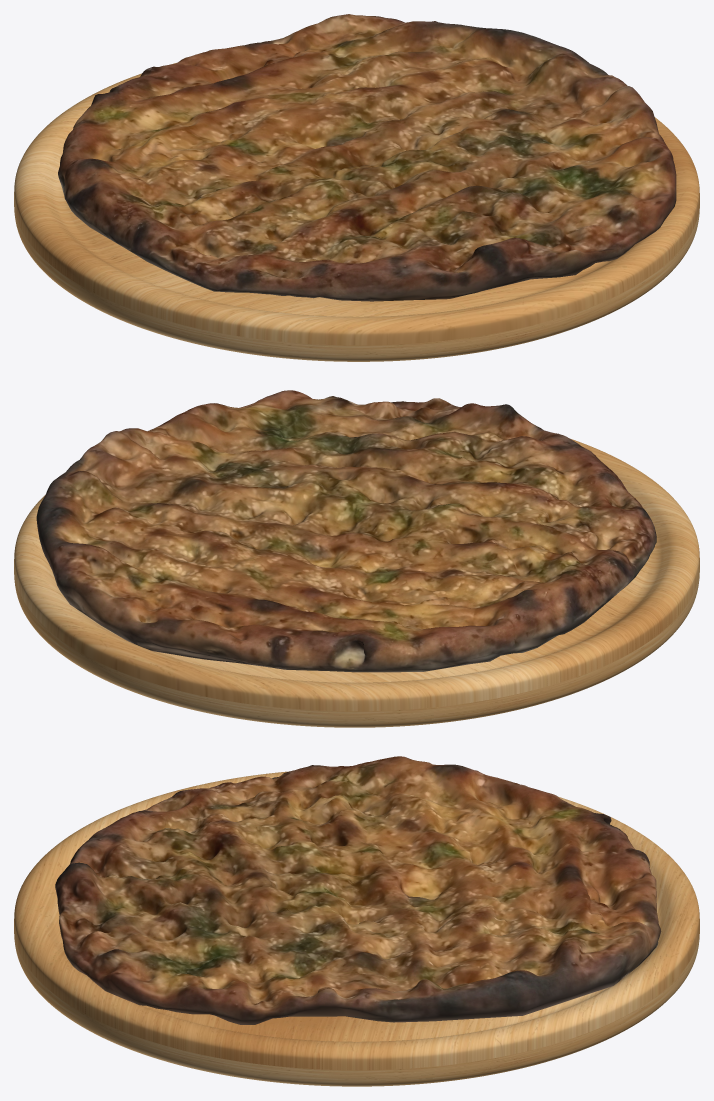
File: chicken_naan.glb
The picture shows the model from 3 angles, top to bottom: view 1: azimuth 30°, elevation 25°; view 2: azimuth 150°, elevation 25°; view 3: azimuth 270°, elevation 25°; orthographic projection.
Visible parts, largest first — view 1: Node1, RoundWoodenBoard; view 2: Node1, RoundWoodenBoard; view 3: Node1, RoundWoodenBoard.
Part boxes in pixels (x1,y1,x2,y2): Node1: (58,14,676,301); RoundWoodenBoard: (14,62,699,361); Node1: (36,390,656,672); RoundWoodenBoard: (14,439,699,727); Node1: (55,756,661,1024); RoundWoodenBoard: (14,771,699,1086).
Bounding box in the file's own units: 0.7512 × 0.1014 × 0.756.
2 materials, 2 textured.
